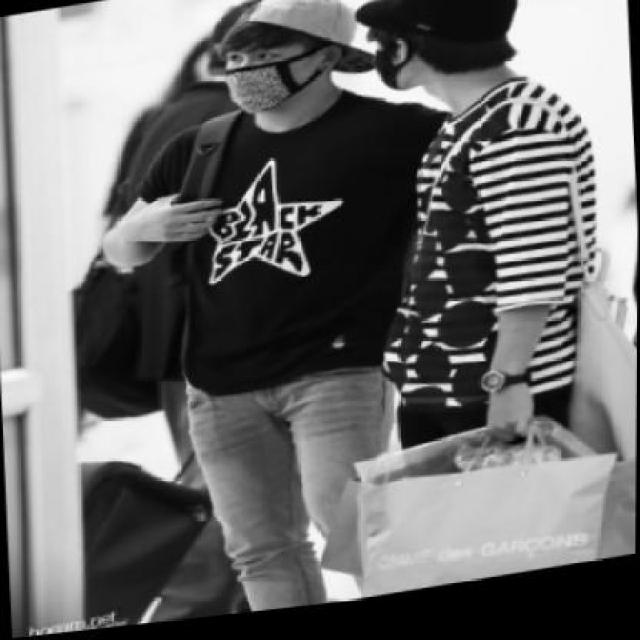hat: (222, 0, 387, 105), (353, 0, 526, 98)
